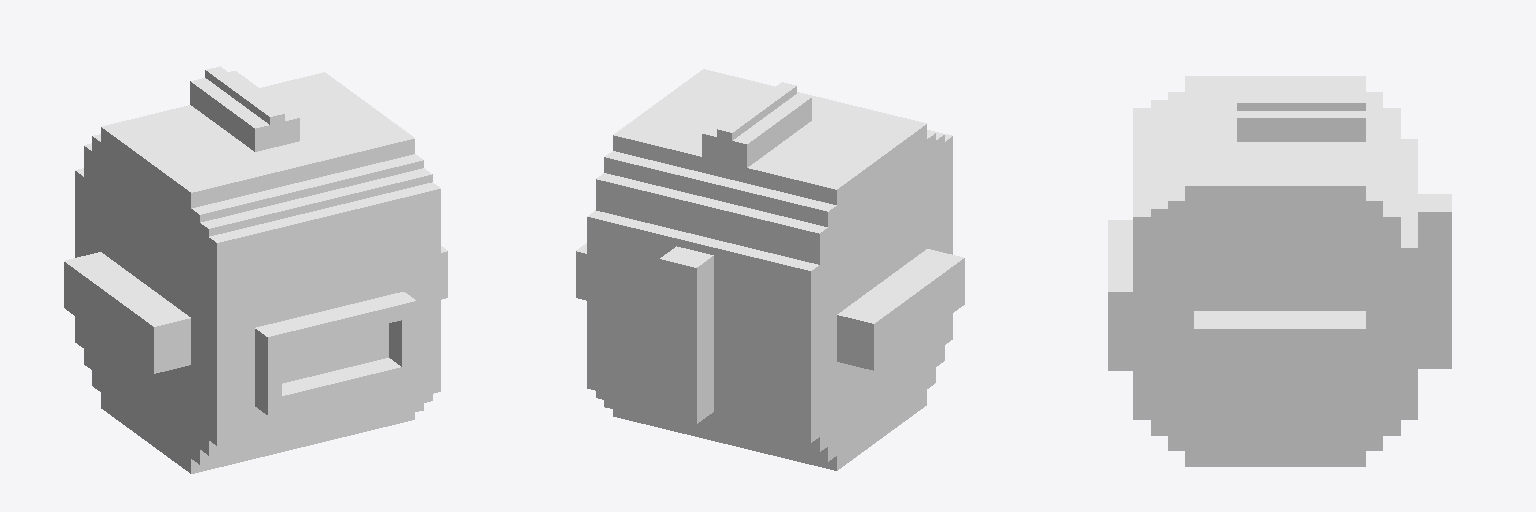
File: Carp.obj
3 renders of one model, left to right at view 1: azimuth 30°, elevation 25°; view 2: azimuth 150°, elevation 25°; view 3: azimuth 270°, elevation 25°, orthographic.
Parts seen in each view (by area): view 1: Carp; view 2: Carp; view 3: Carp.
Part boxes in pixels (x1,y1,x2,y2): Carp: (64, 66, 447, 473); Carp: (576, 69, 964, 470); Carp: (1108, 76, 1451, 466).
Size of the model in its own units: 40 by 40 by 40.